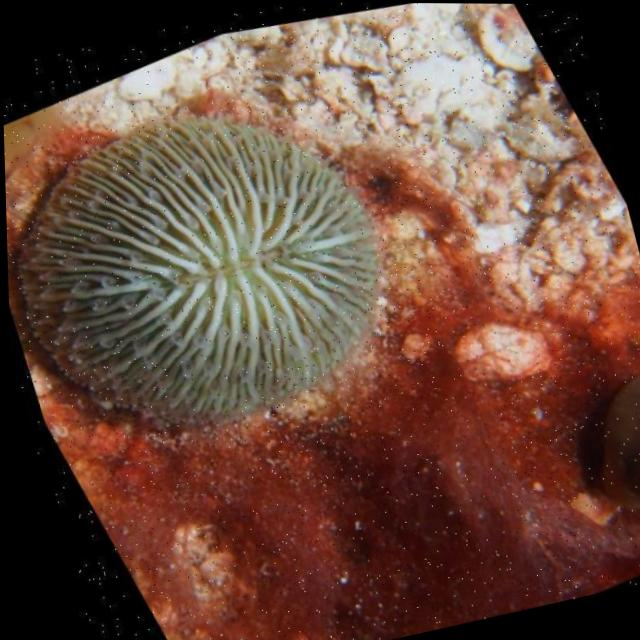Healthy Coral: (0, 16, 458, 508), (521, 313, 640, 557)
